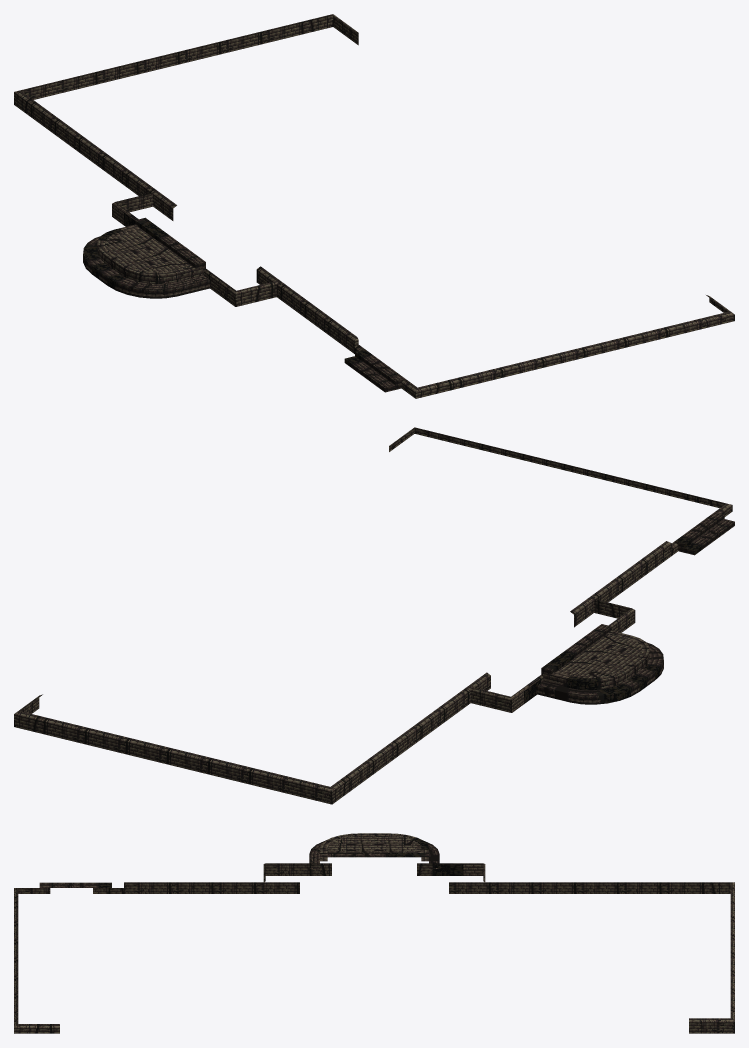
Rendered from EnvBdgMD_Church_Sea_A_Outdoor_A_Entrance.FBX.
The picture shows the model from 3 angles, top to bottom: view 1: azimuth 30°, elevation 25°; view 2: azimuth 150°, elevation 25°; view 3: azimuth 270°, elevation 25°; orthographic projection. The views are drawn at different scales.
Parts seen in each view (by area): view 1: EnvBdgMD_Church_Sea_A_Outdoor_A_Entrance; view 2: EnvBdgMD_Church_Sea_A_Outdoor_A_Entrance; view 3: EnvBdgMD_Church_Sea_A_Outdoor_A_Entrance.
Boxes of the visible parts, left/top/right/bottom form: EnvBdgMD_Church_Sea_A_Outdoor_A_Entrance: left=14, top=14, right=734, bottom=398; EnvBdgMD_Church_Sea_A_Outdoor_A_Entrance: left=14, top=427, right=734, bottom=804; EnvBdgMD_Church_Sea_A_Outdoor_A_Entrance: left=14, top=833, right=734, bottom=1033.
Bounding box in the file's own units: 1055 × 50 × 1690.
